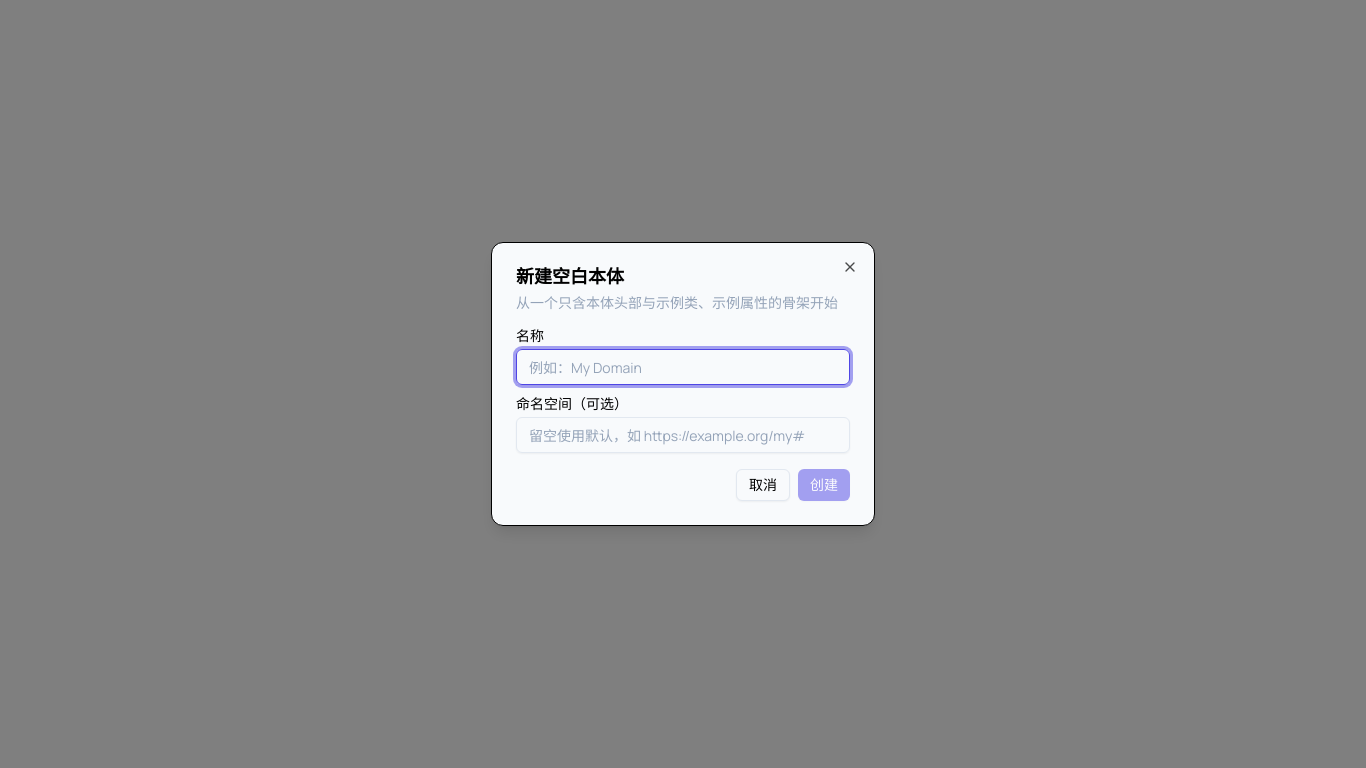
Test case: rejects a whitespace namespace inline without sending
Type "X" into the field labelled "名称". click: (683, 367)
box: 516,349 -> 850,385
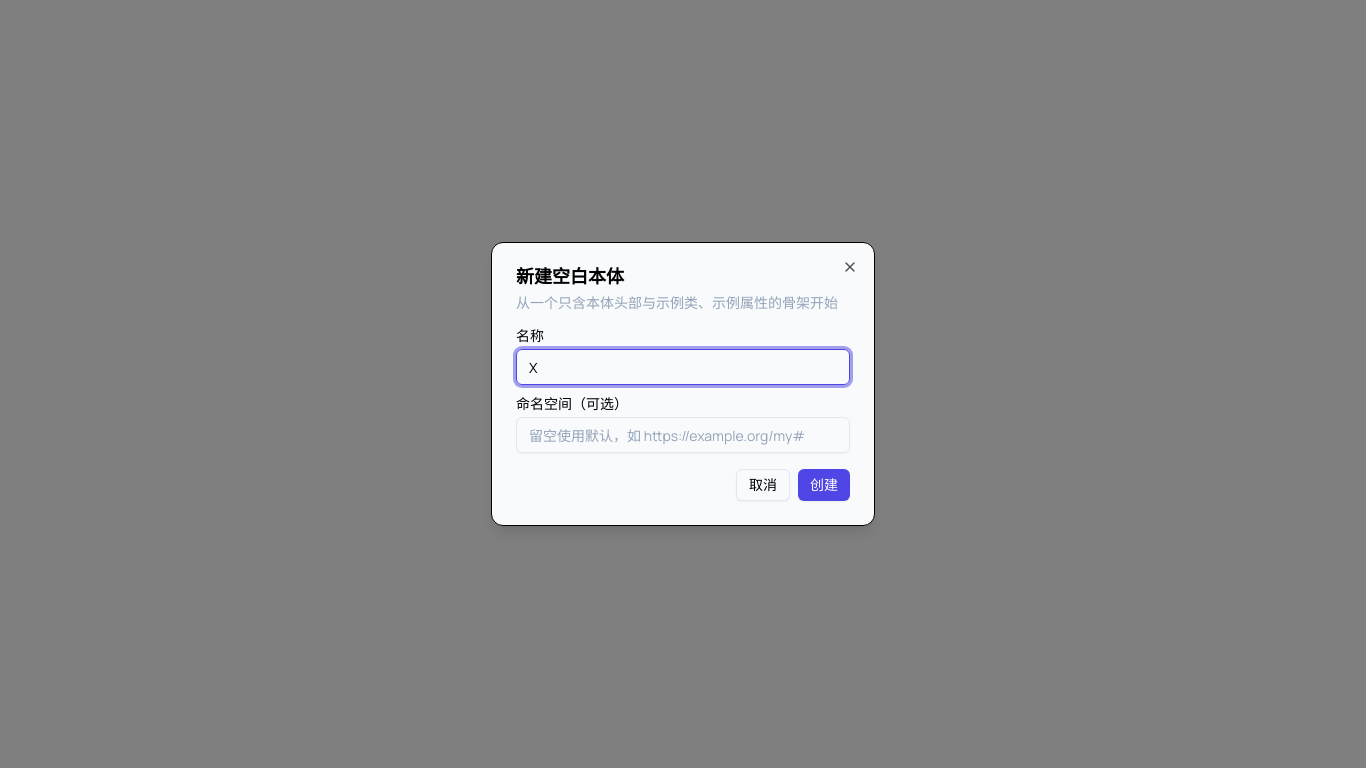
Type "has space" into the field labelled "命名空间（可选）". click: (683, 435)
box: 516,417 -> 850,453
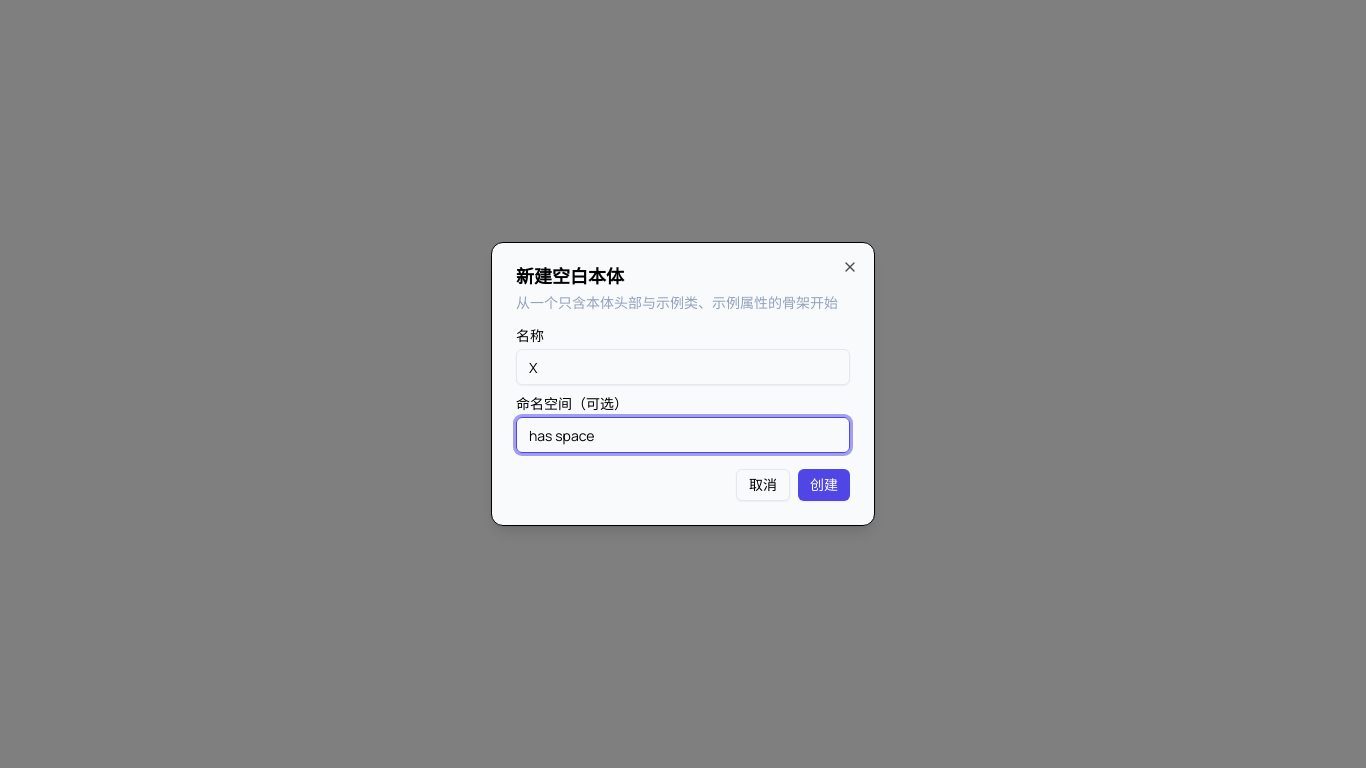
Click the button "创建". click: click(824, 485)
box: 798,469 -> 850,501
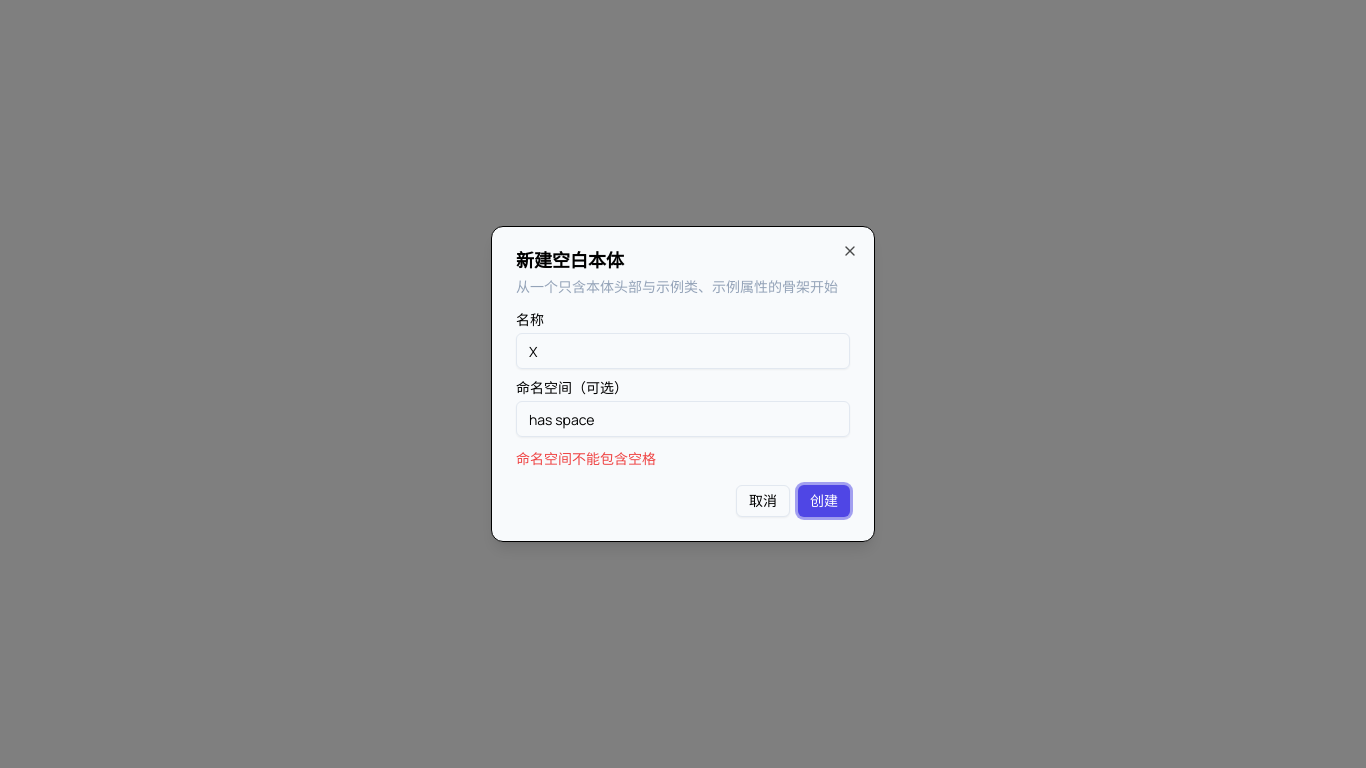
Check: the text "命名空间不能包含空格" is shown, box 516,449 -> 656,468
